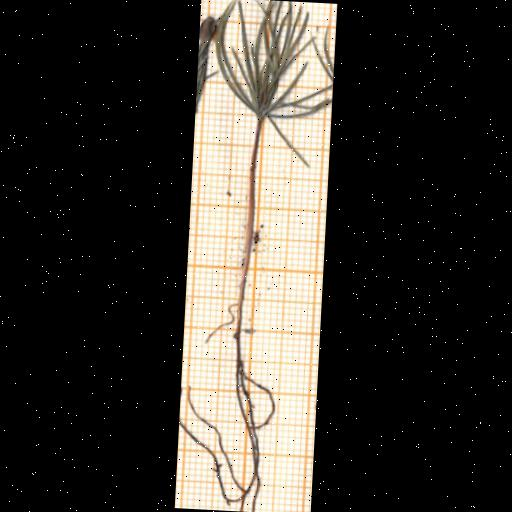flowerPinus: (216, 0, 332, 121)
rootPinus: (179, 334, 276, 511)
stemPinus: (237, 121, 260, 331)
